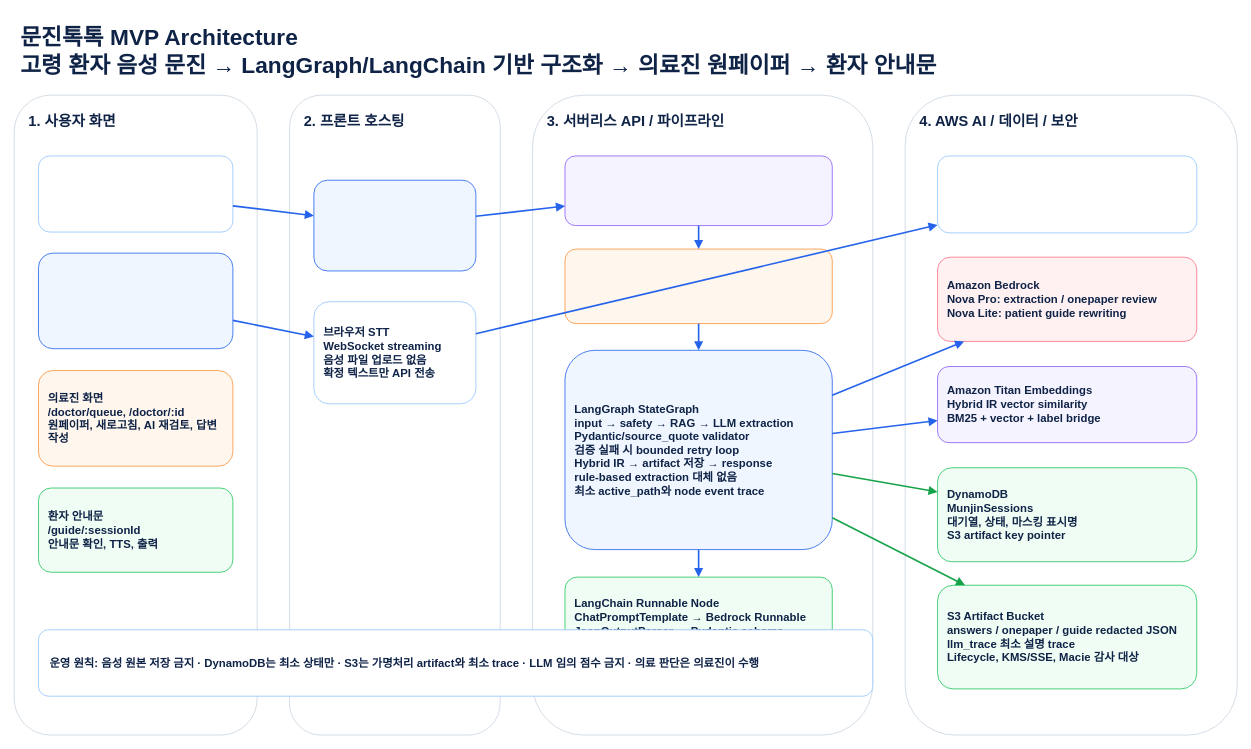
Some shapes in this 1251 by 749 pixel diagram are drawn without their labels. The centre of each missing label's shape, as x and y in pixels:
"Amazon Transcribe Streaming 한국어 실시간 전사 음성 원본 S3 저장 없음" goes at [1067,194].
"API Gateway HTTP API /sessions, /process-answer, /onepager, /doctor-response" goes at [698,190].
"AWS Amplify React + Vite SPA HTTPS 배포" goes at [394,225].
"AWS Lambda Python 3.12 handler.py, sessions.py, guide.py, onepager.py" goes at [698,286].
"직원 접수 /staff 세션 생성, 초진/재진, 대기열" goes at [135,193].
"환자 태블릿 /patient/:sessionId 서비스 이용 동의, 실시간 음성 문진, 직접 수정" goes at [135,300].
